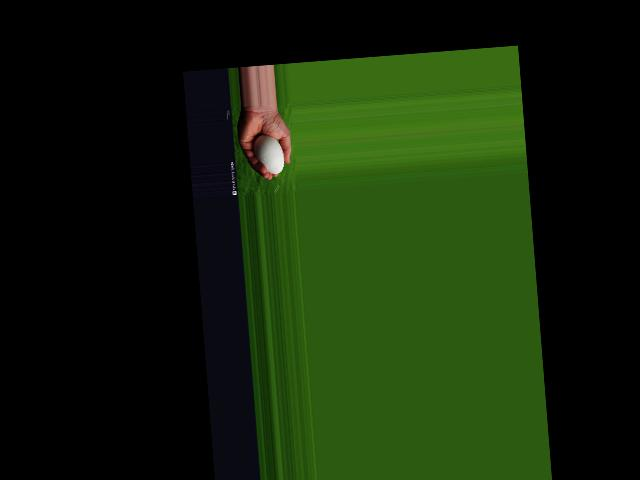egg: (251, 132, 285, 175)
